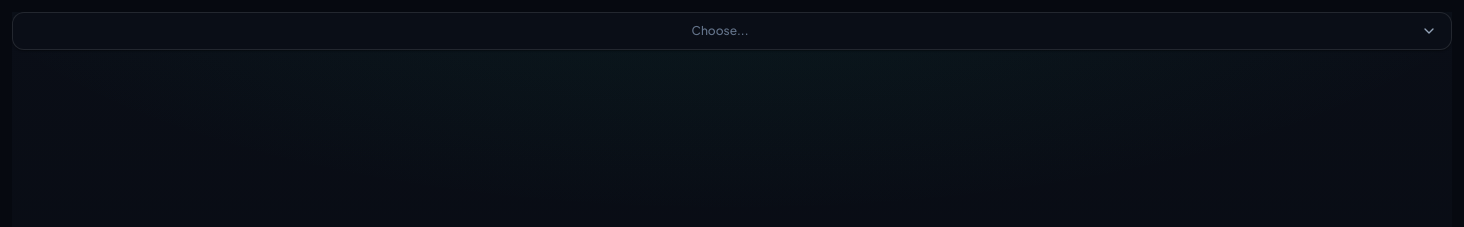
Test: ModernSelect Component › opens popover on click, shows options, and selects an option
Later steps or results of the test are not shown.
# Click trigger button
Click the button: coordinates (732, 31) [12,12,1452,50]
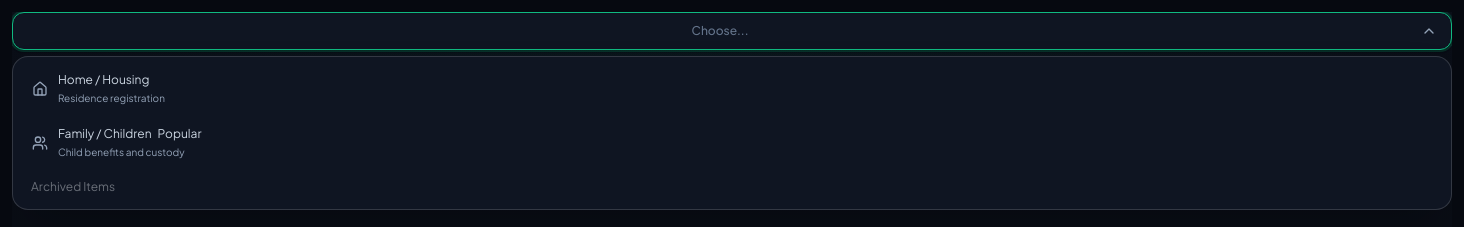
Expected: the list is shown
Expected: the text "Child benefits and custody" is shown, [58,146,185,158]
Expected: the text "Popular" is shown, [158,126,202,141]
